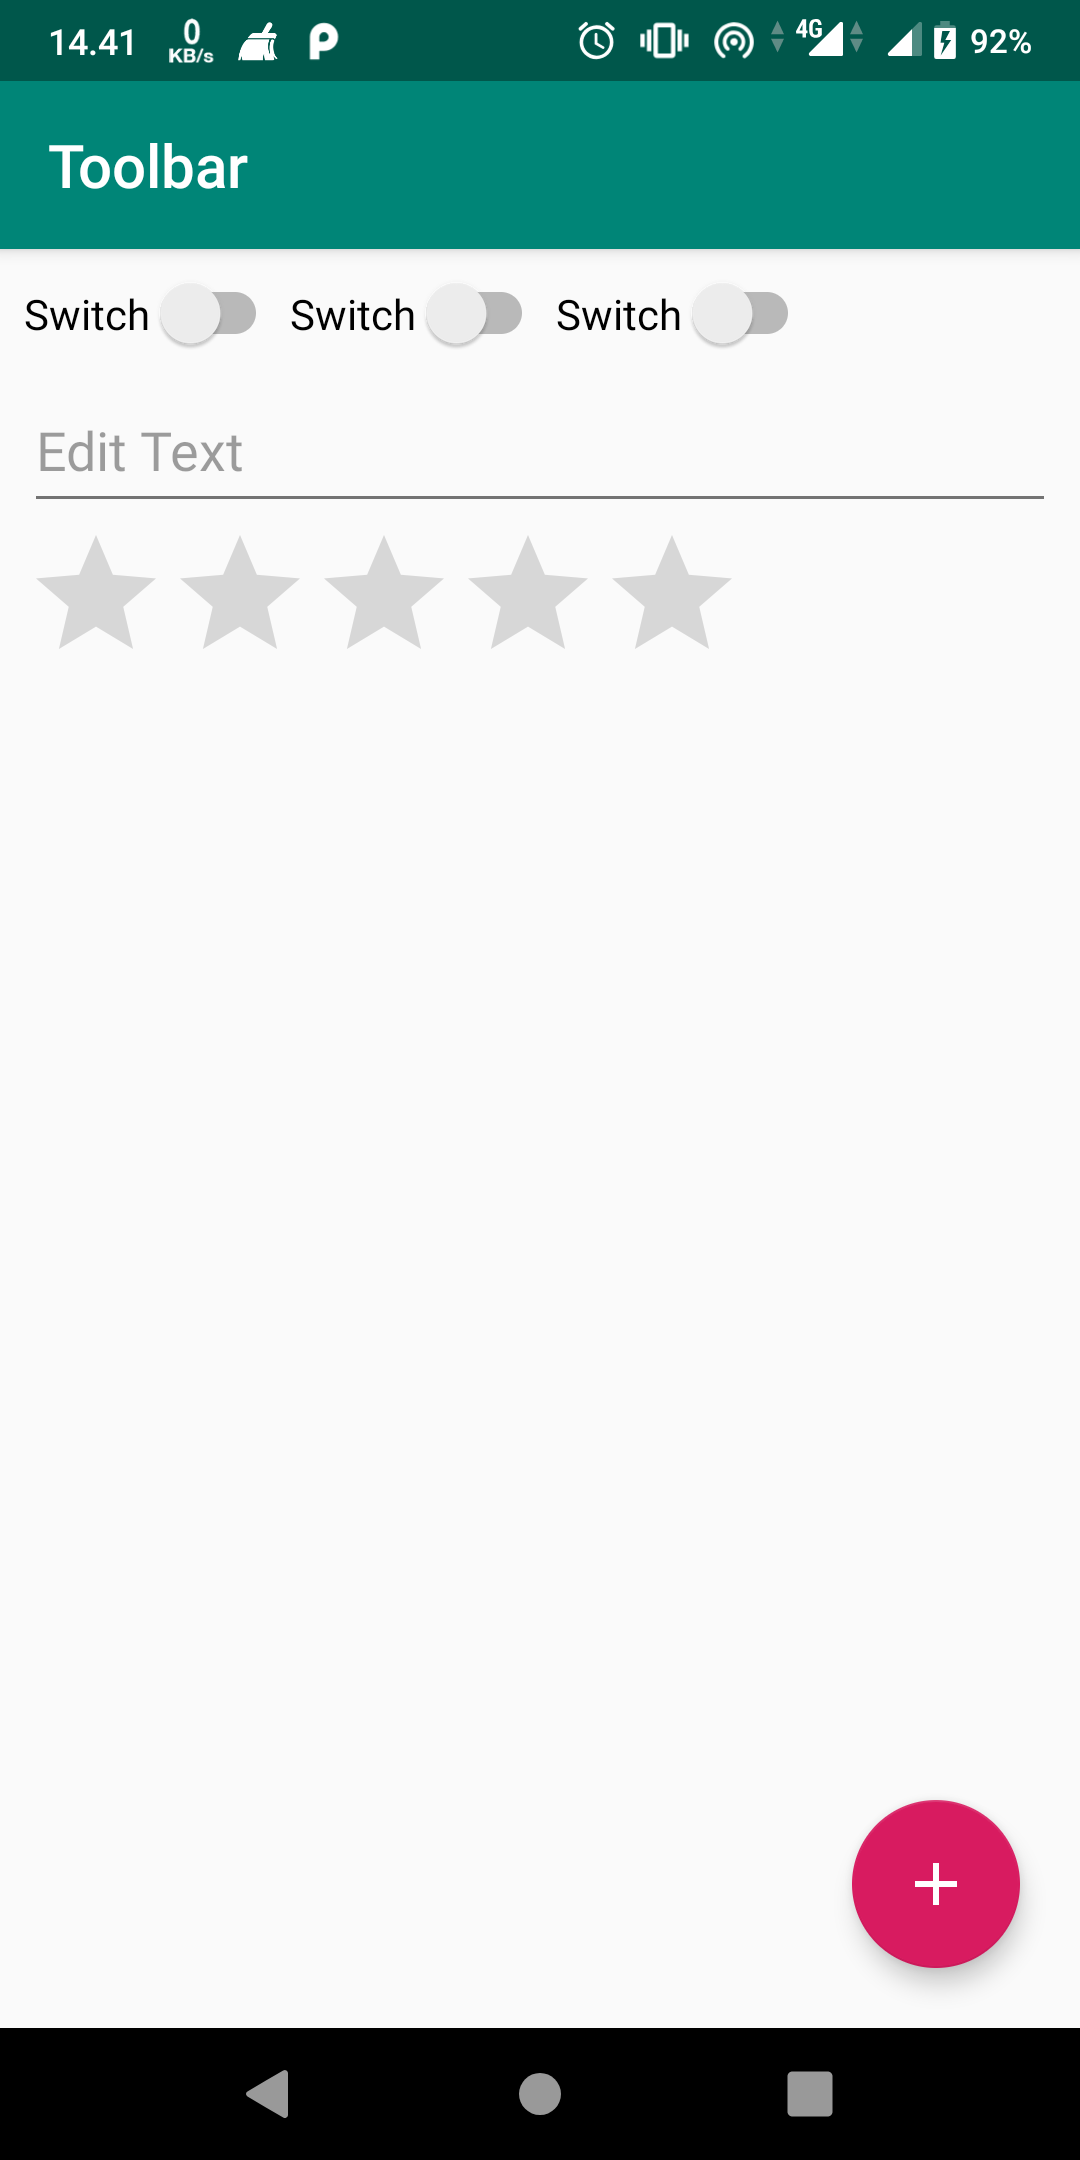editText: (26, 412, 1059, 528)
floatingButton: (843, 1789, 1030, 1977)
ratingBar: (23, 525, 742, 661)
switch: (288, 280, 539, 357), (550, 280, 807, 354), (21, 280, 276, 354)
toolbar: (1, 83, 1080, 252)
